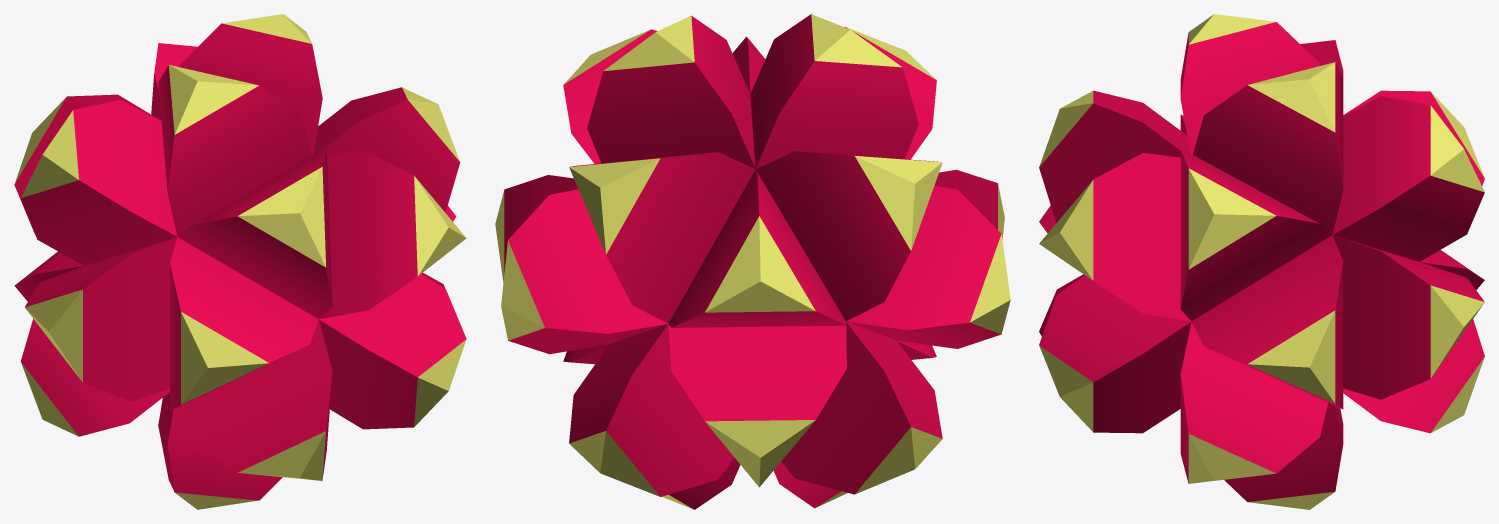
File: REDBACTERIA2.fbx
The picture shows the model from 3 angles, left to right: view 1: azimuth 30°, elevation 25°; view 2: azimuth 150°, elevation 25°; view 3: azimuth 270°, elevation 25°; orthographic projection. The views are drawn at different scales.
Parts seen in each view (by area): view 1: pPlatonic1; view 2: pPlatonic1; view 3: pPlatonic1.
Part boxes in pixels (bbox=[...]): pPlatonic1: bbox=[14, 14, 466, 509]; pPlatonic1: bbox=[495, 14, 1010, 509]; pPlatonic1: bbox=[1039, 14, 1484, 509].
Size of the model in its own units: 9.52 by 9.06 by 8.5.
